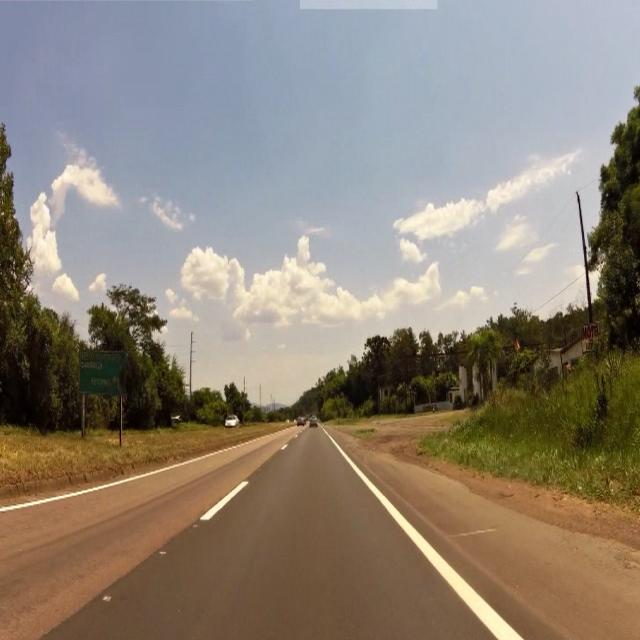I-4: (77, 351, 128, 396)
